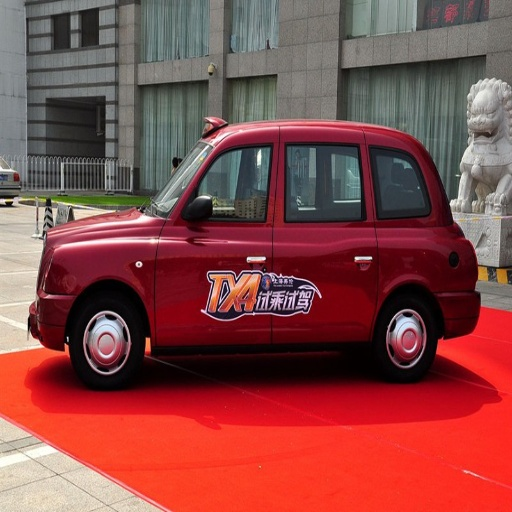trunk: (370, 228, 455, 321)
